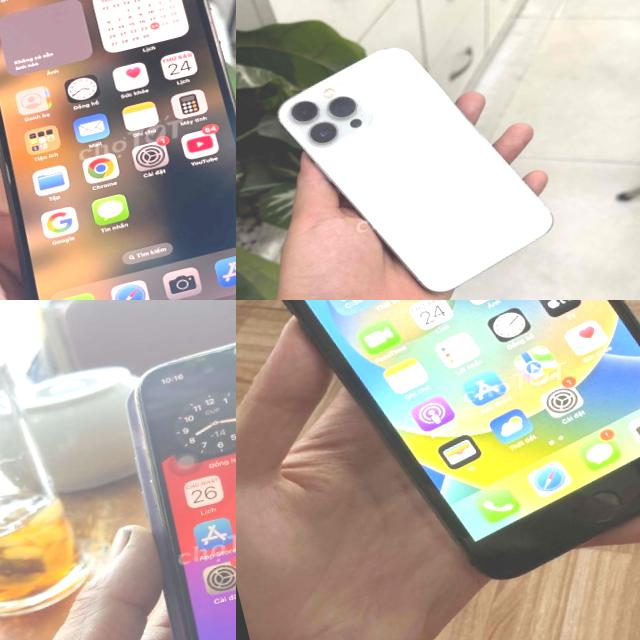gen_12_13: (264, 16, 562, 300)
gen_7_8: (236, 300, 640, 625)
gen_x_xs: (0, 0, 236, 300), (129, 341, 236, 640)
